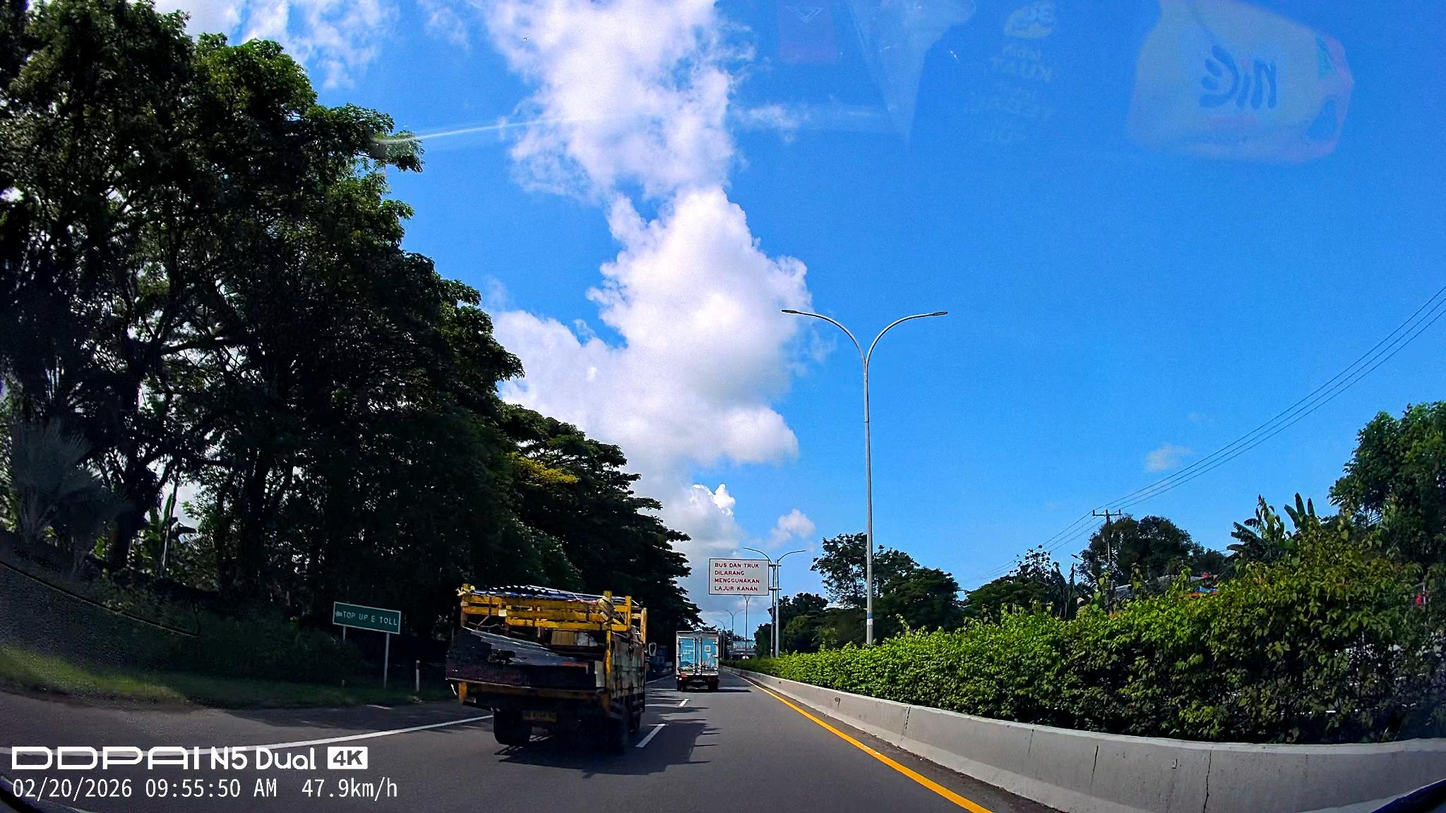rambu_teks: (708, 557, 770, 596)
